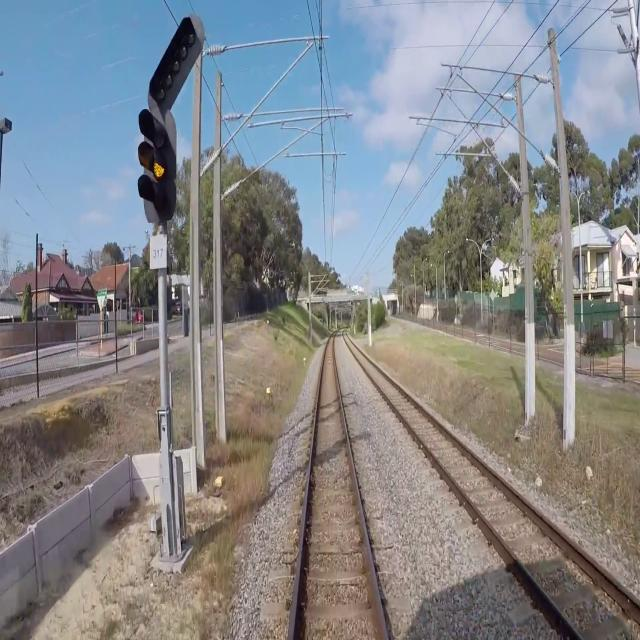rail-track: (344, 332, 640, 639), (296, 336, 384, 639)
